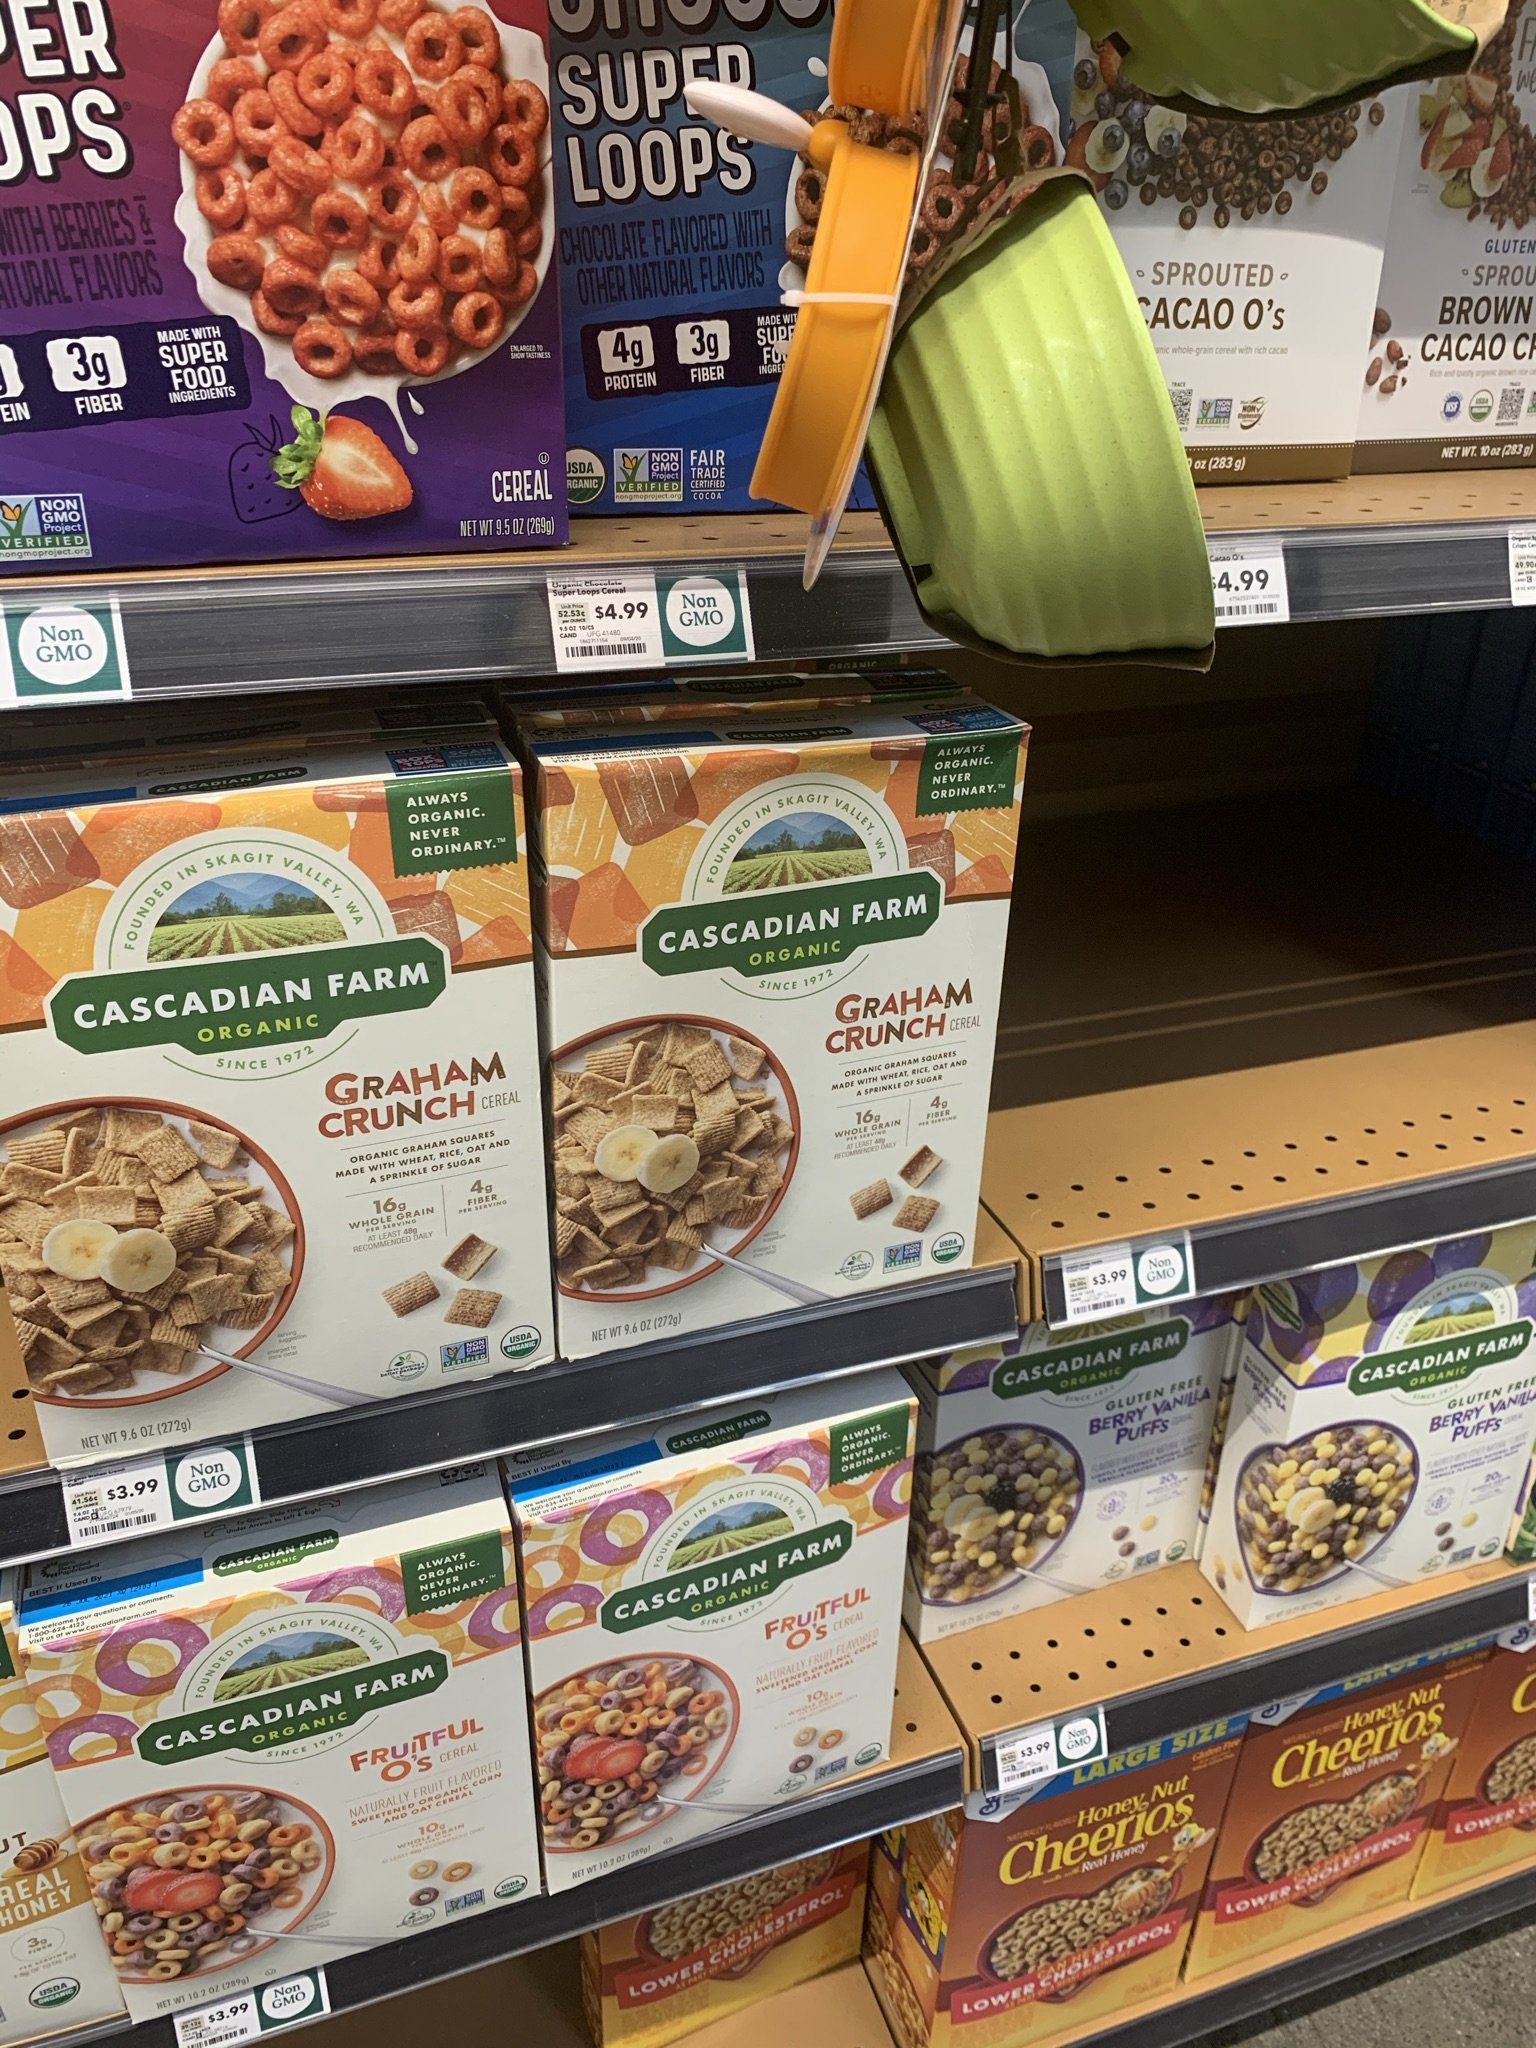Cereal cascadian: (2, 819, 552, 1392), (553, 761, 1013, 1242), (32, 1650, 542, 1934), (528, 1509, 929, 1787), (1289, 1269, 1533, 1580), (957, 1334, 1213, 1611)
Cereal honey oats: (952, 1801, 1187, 2024), (1258, 1730, 1438, 1979)
